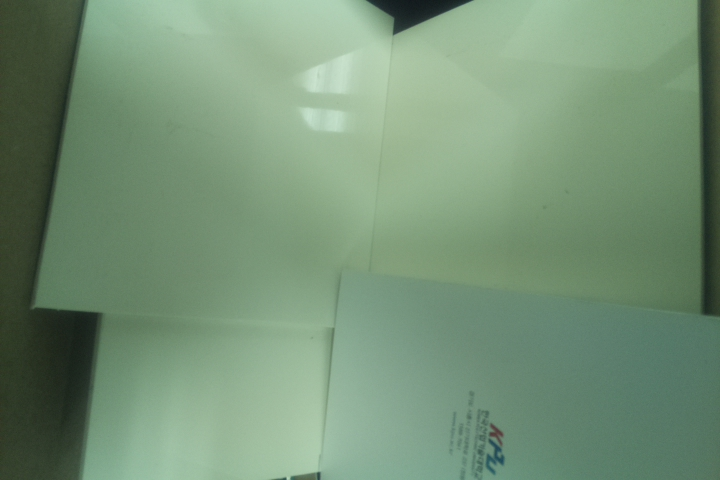book: (314, 262, 718, 480)
